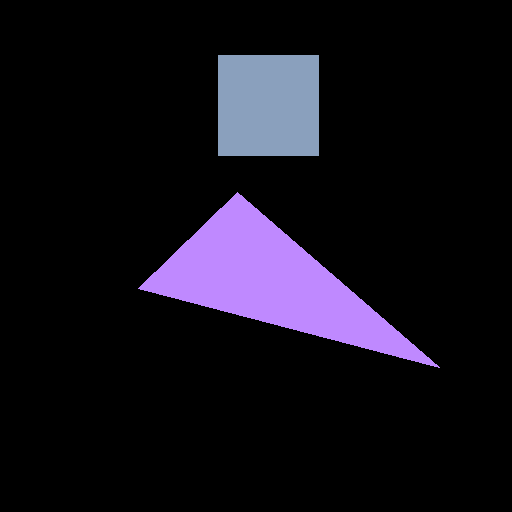square: (218, 55, 318, 155)
triangle: (138, 192, 439, 367)
